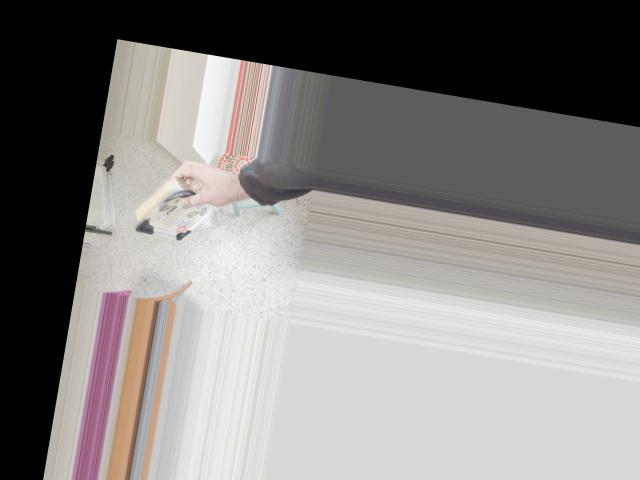cheese: (108, 144, 218, 268)
